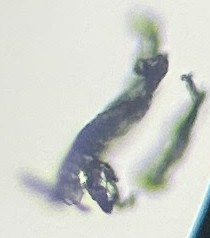microplastic: (18, 13, 169, 213), (135, 72, 210, 196)
